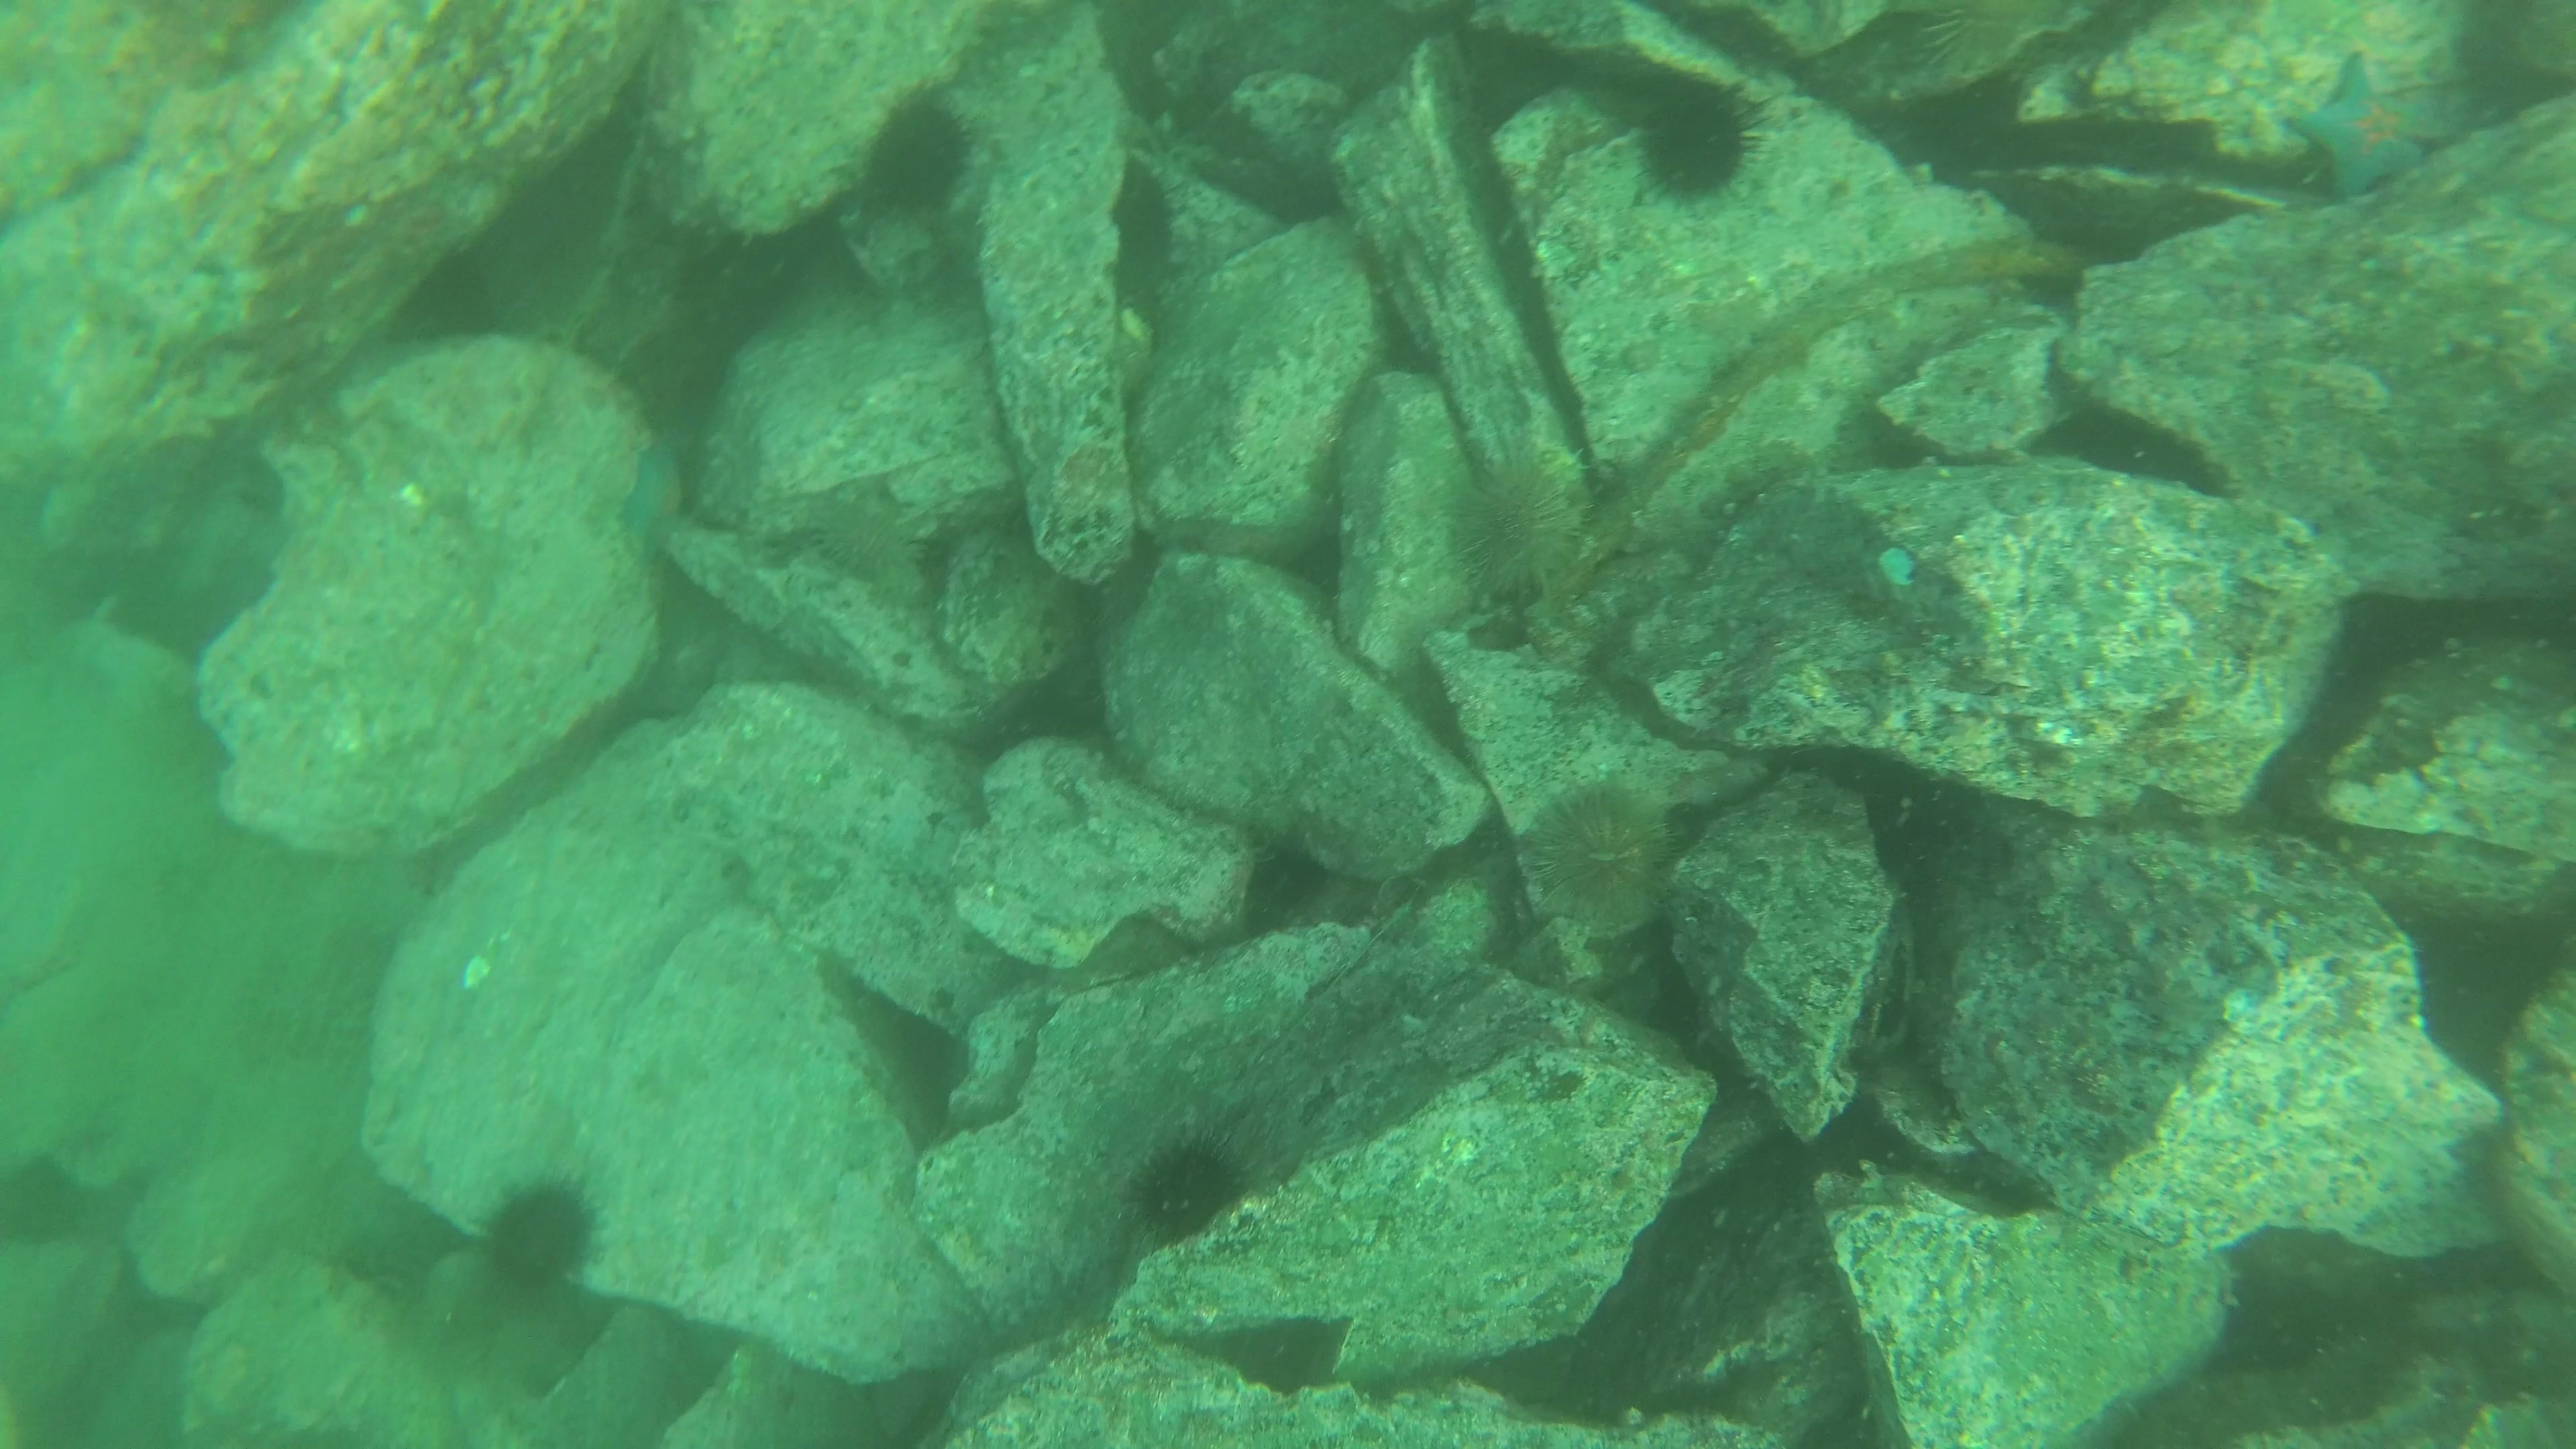echinus: (1440, 439, 1591, 610), (1523, 780, 1681, 941), (1624, 78, 1767, 207), (798, 478, 936, 605), (474, 1173, 605, 1302), (855, 88, 982, 221), (1122, 1131, 1251, 1249), (0, 1146, 94, 1253)
starfish: (2282, 50, 2454, 205), (609, 428, 688, 575)
